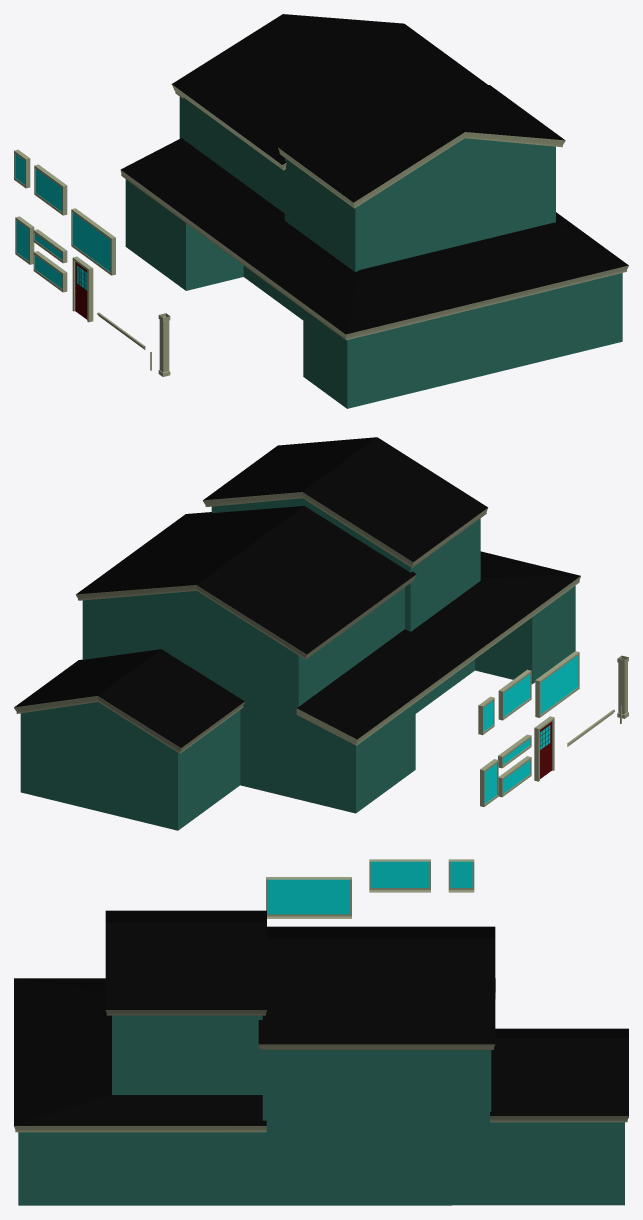
Rendered from General Store.fbx.
3 views of the same model, one above another, from view 1: azimuth 30°, elevation 25°; view 2: azimuth 150°, elevation 25°; view 3: azimuth 270°, elevation 25° (orthographic). The views are drawn at different scales.
Parts seen in each view (by area): view 1: House_4_Roof, polySurface51, polySurface50, polySurface41, polySurface43, pCube171, pCube170, pCube174, pCube172, pCube137, polySurface48, polySurface49 (+2 smaller); view 2: polySurface41, polySurface50, polySurface44, polySurface51, polySurface43, House_4_Roof, polySurface45, pCube171, pCube170, pCube174, pCube172, pCube137 (+3 smaller); view 3: polySurface51, polySurface41, polySurface50, House_4_Roof, polySurface43, polySurface45, polySurface44, pCube171, pCube170, pCube110.
Boxes of the visible parts, bbox=[...] form: House_4_Roof: bbox=[120, 138, 628, 340]; polySurface51: bbox=[125, 179, 622, 408]; polySurface50: bbox=[183, 97, 555, 272]; polySurface41: bbox=[171, 14, 487, 170]; polySurface43: bbox=[278, 76, 565, 208]; pCube171: bbox=[71, 208, 115, 275]; pCube170: bbox=[34, 164, 67, 215]; pCube174: bbox=[33, 251, 67, 292]; pCube172: bbox=[15, 216, 34, 264]; pCube137: bbox=[158, 313, 170, 376]; polySurface48: bbox=[72, 256, 93, 322]; polySurface49: bbox=[75, 262, 87, 319]; polySurface41: bbox=[76, 506, 416, 659]; polySurface50: bbox=[82, 498, 480, 712]; polySurface44: bbox=[20, 702, 240, 830]; polySurface51: bbox=[240, 585, 575, 813]; polySurface43: bbox=[203, 437, 488, 567]; House_4_Roof: bbox=[296, 551, 580, 745]; polySurface45: bbox=[14, 649, 244, 753]; pCube171: bbox=[535, 651, 579, 717]; pCube170: bbox=[498, 669, 531, 720]; pCube174: bbox=[498, 756, 531, 797]; pCube172: bbox=[480, 759, 498, 806]; pCube137: bbox=[617, 655, 628, 718]; polySurface51: bbox=[18, 1113, 491, 1205]; polySurface41: bbox=[258, 926, 495, 1049]; polySurface50: bbox=[112, 1015, 491, 1112]; House_4_Roof: bbox=[14, 978, 495, 1132]; polySurface43: bbox=[105, 910, 266, 1015]; polySurface45: bbox=[490, 1028, 628, 1122]; polySurface44: bbox=[491, 1122, 624, 1205]; pCube171: bbox=[266, 877, 351, 918]; pCube170: bbox=[369, 859, 430, 892]; pCube110: bbox=[448, 859, 474, 892].
Size of the model in its own units: 57.74 by 28.58 by 71.61.
